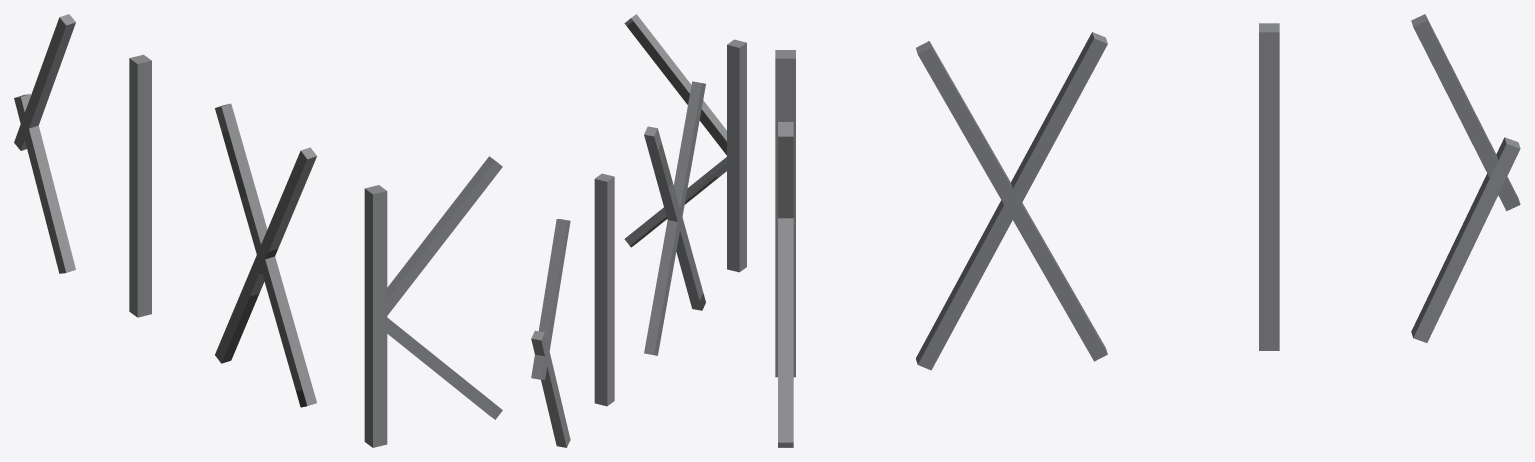
The picture shows the model from 3 angles, left to right: view 1: azimuth 30°, elevation 25°; view 2: azimuth 150°, elevation 25°; view 3: azimuth 270°, elevation 25°; orthographic projection. The views are drawn at different scales.
Size of the model in its own units: 0.8173 by 1.04 by 2.16.
